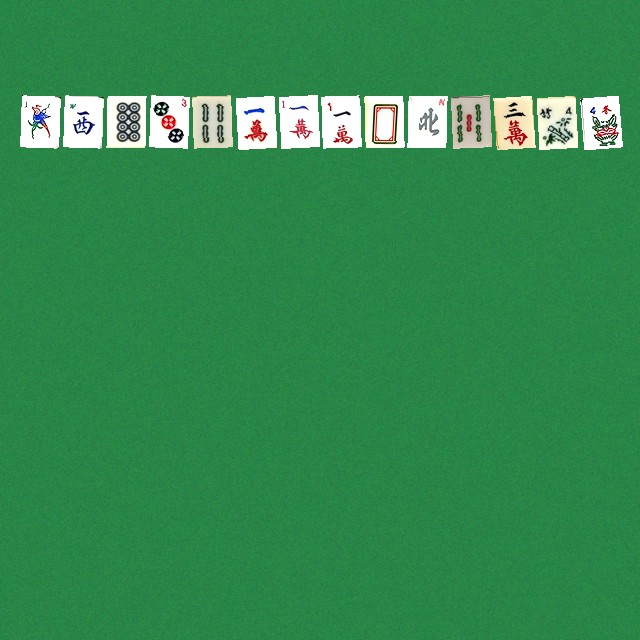tile: (20, 95, 59, 147), (63, 95, 102, 147), (106, 95, 145, 147), (149, 95, 188, 147), (192, 95, 231, 147), (235, 95, 274, 147), (278, 95, 317, 147), (321, 95, 360, 147), (364, 95, 403, 147), (407, 95, 446, 147), (450, 95, 489, 147), (493, 95, 532, 147), (536, 95, 575, 147), (579, 95, 618, 147)
